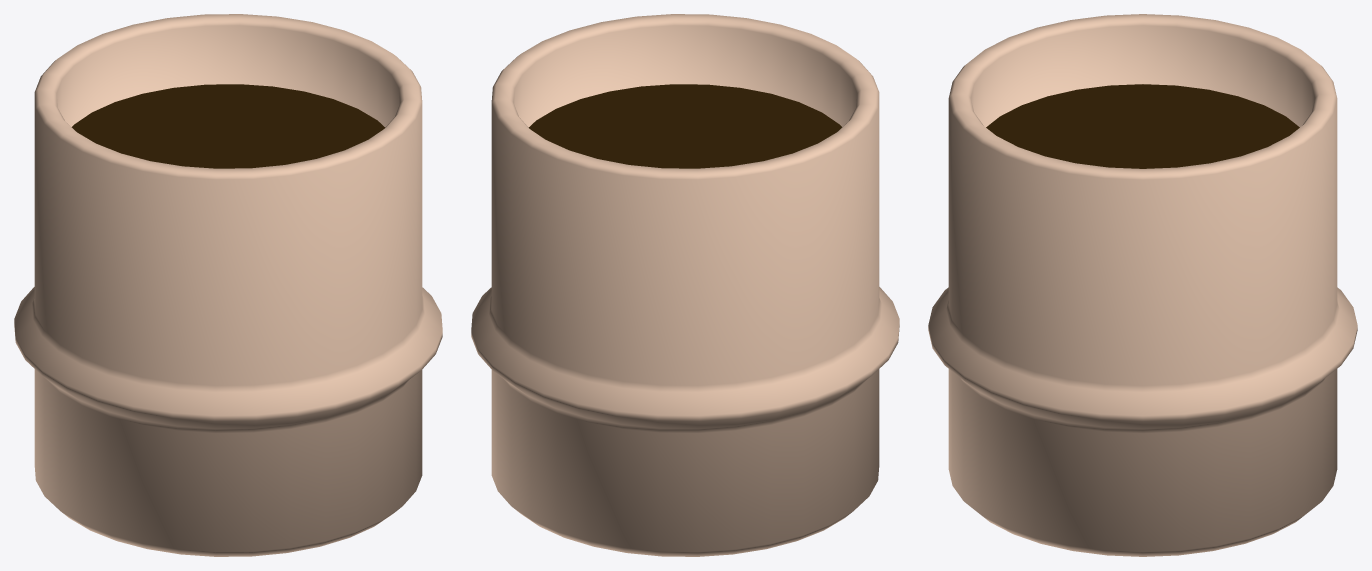
File: Pot_Clay1.fbx
The picture shows the model from 3 angles, left to right: view 1: azimuth 30°, elevation 25°; view 2: azimuth 150°, elevation 25°; view 3: azimuth 270°, elevation 25°; orthographic projection.
Visible parts, largest first — view 1: Pot_Clay1; view 2: Pot_Clay1; view 3: Pot_Clay1.
Part boxes in pixels (x1,y1,x2,y2): Pot_Clay1: (14,14,442,556); Pot_Clay1: (471,14,899,556); Pot_Clay1: (928,14,1357,556).
Size of the model in its own units: 202 by 200 by 202.
